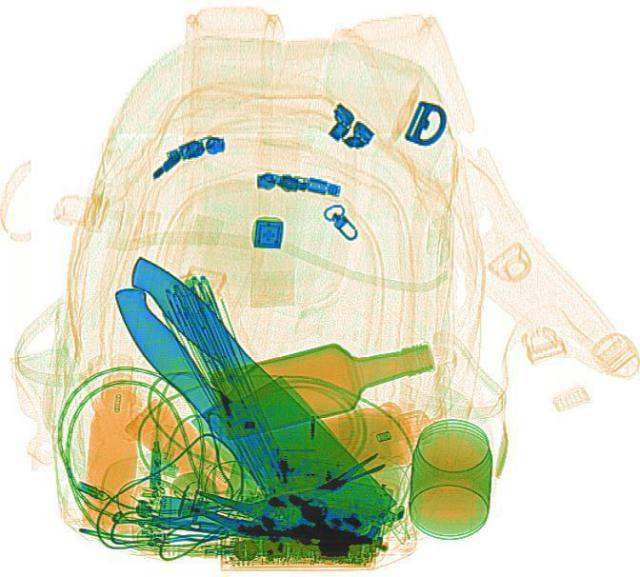Knife: (76, 246, 394, 549), (96, 251, 398, 554)
